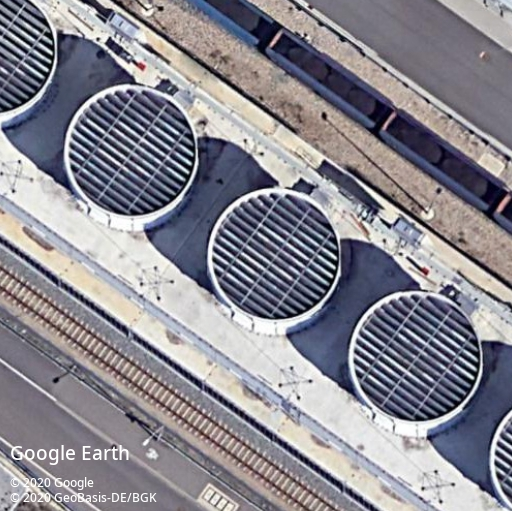Vent: (64, 84, 199, 220), (207, 187, 341, 323), (349, 290, 483, 425)
